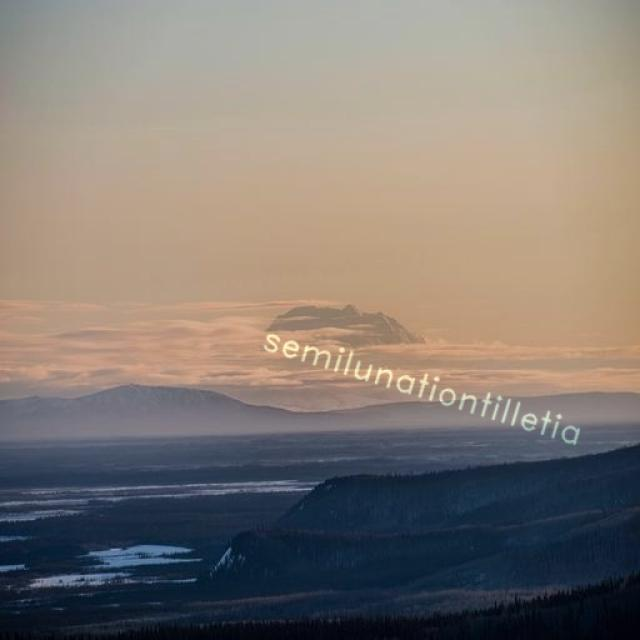watermark: (251, 322, 603, 452)
